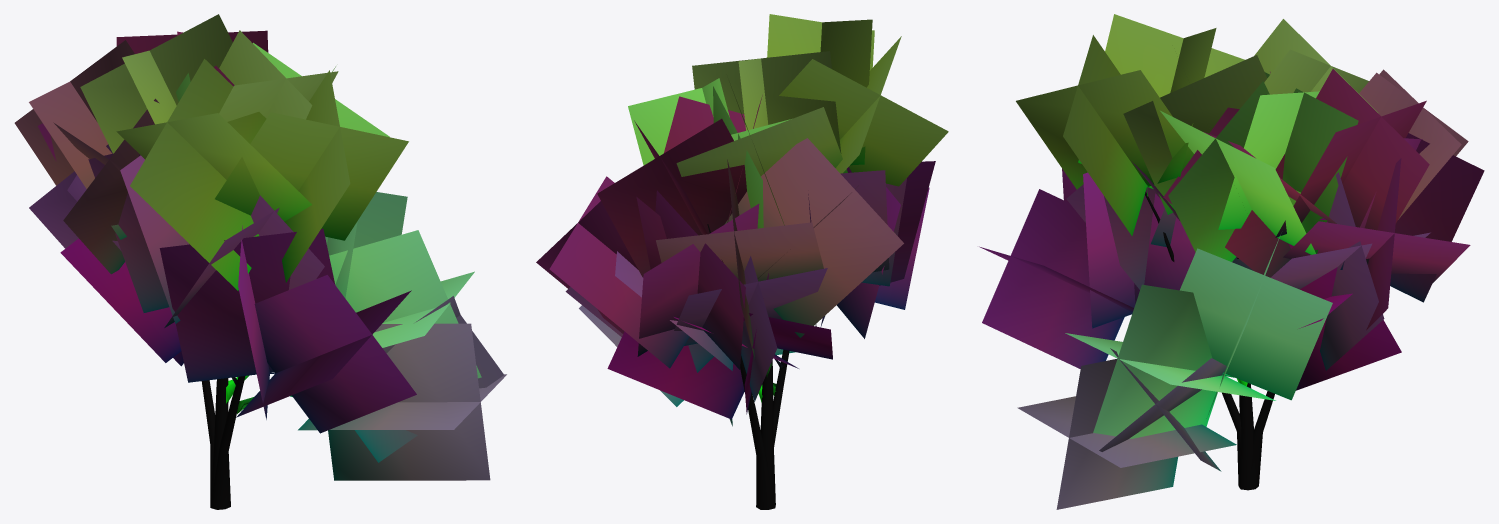
Rendered from URP_P12_Tree_17_LOD_3.fbx.
3 renders of one model, left to right at view 1: azimuth 30°, elevation 25°; view 2: azimuth 150°, elevation 25°; view 3: azimuth 270°, elevation 25°, orthographic. The views are drawn at different scales.
Visible parts, largest first — view 1: Tree_17_LOD_3; view 2: Tree_17_LOD_3; view 3: Tree_17_LOD_3.
Part boxes in pixels (box(x1,y1,x2,y2)): Tree_17_LOD_3: box(14, 14, 506, 509); Tree_17_LOD_3: box(536, 14, 948, 509); Tree_17_LOD_3: box(979, 14, 1484, 509).
Size of the model in its own units: 175 by 211 by 217.
